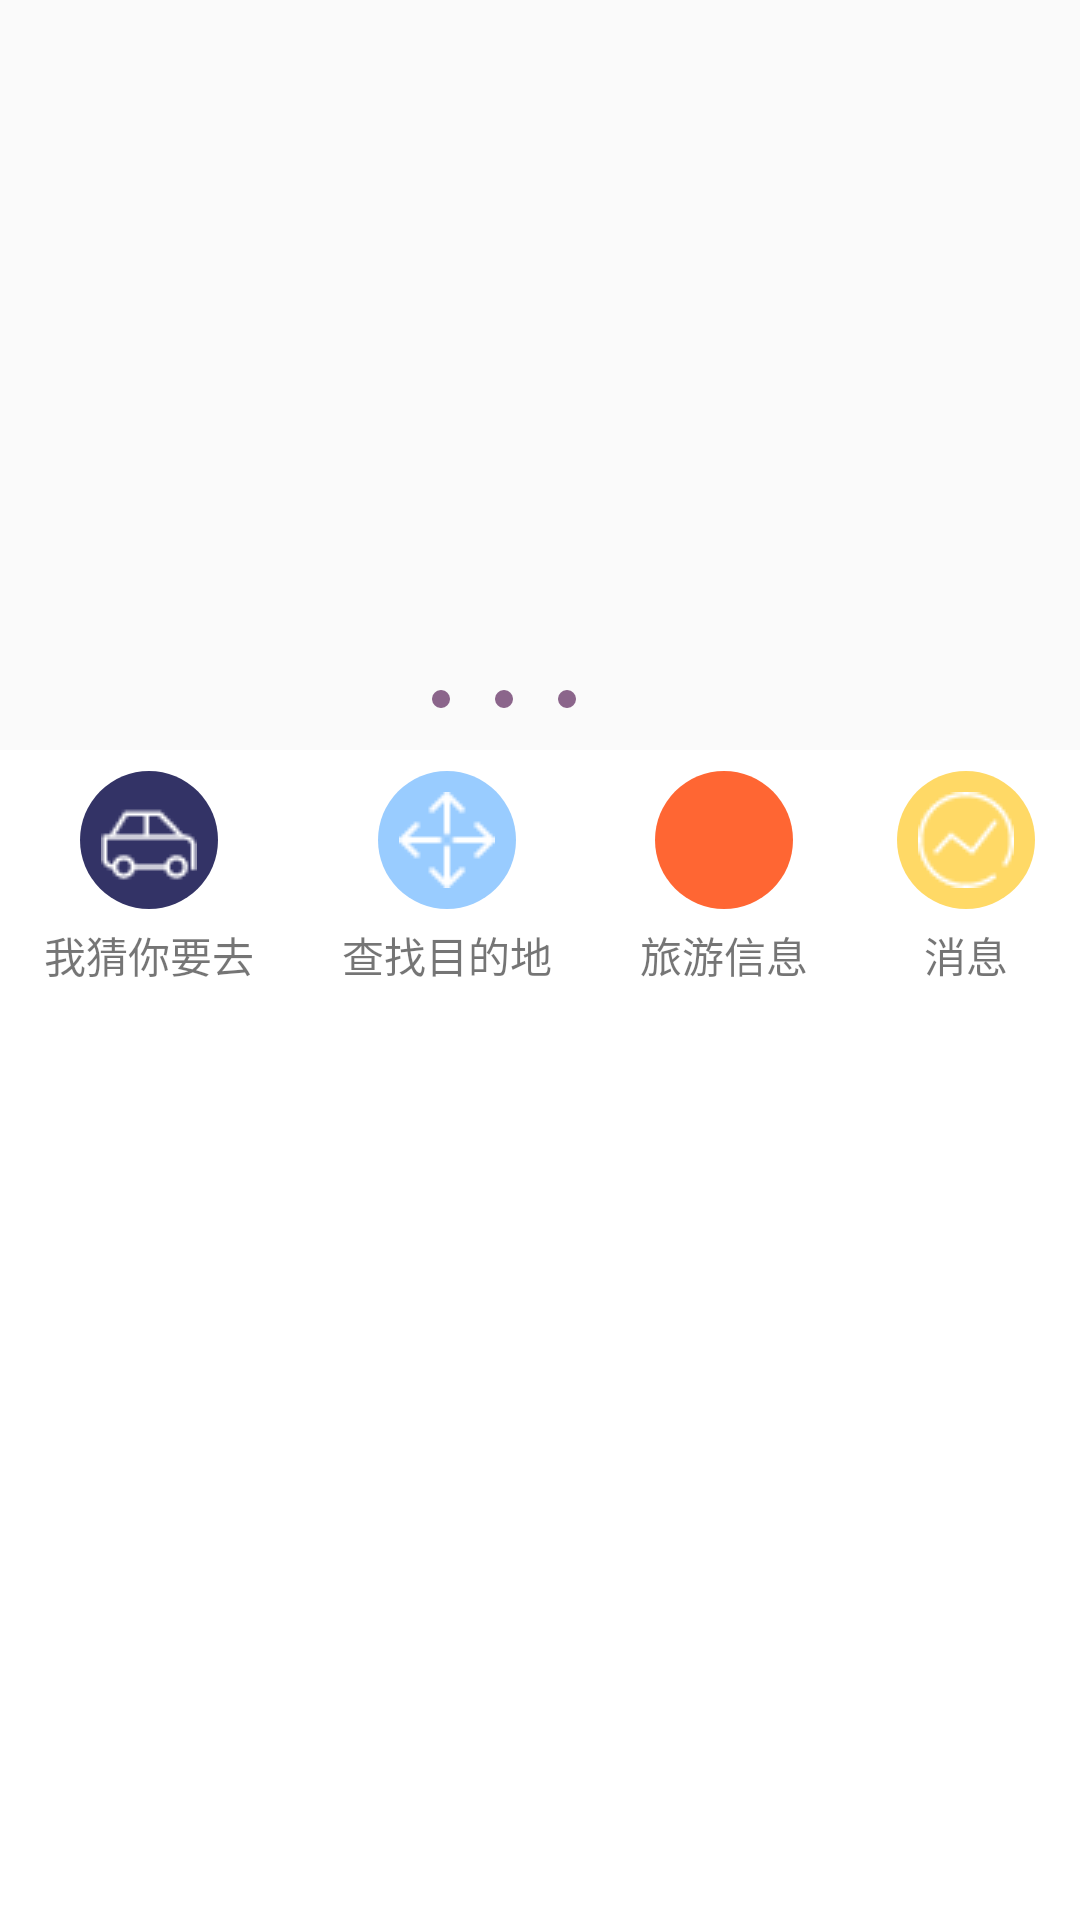

Icons on this 1080×1920 Android screen, each with its box as (x1, y1, x2, y2):
auto: (80, 771, 218, 909)
data: (897, 771, 1035, 909)
move: (378, 771, 516, 909)
